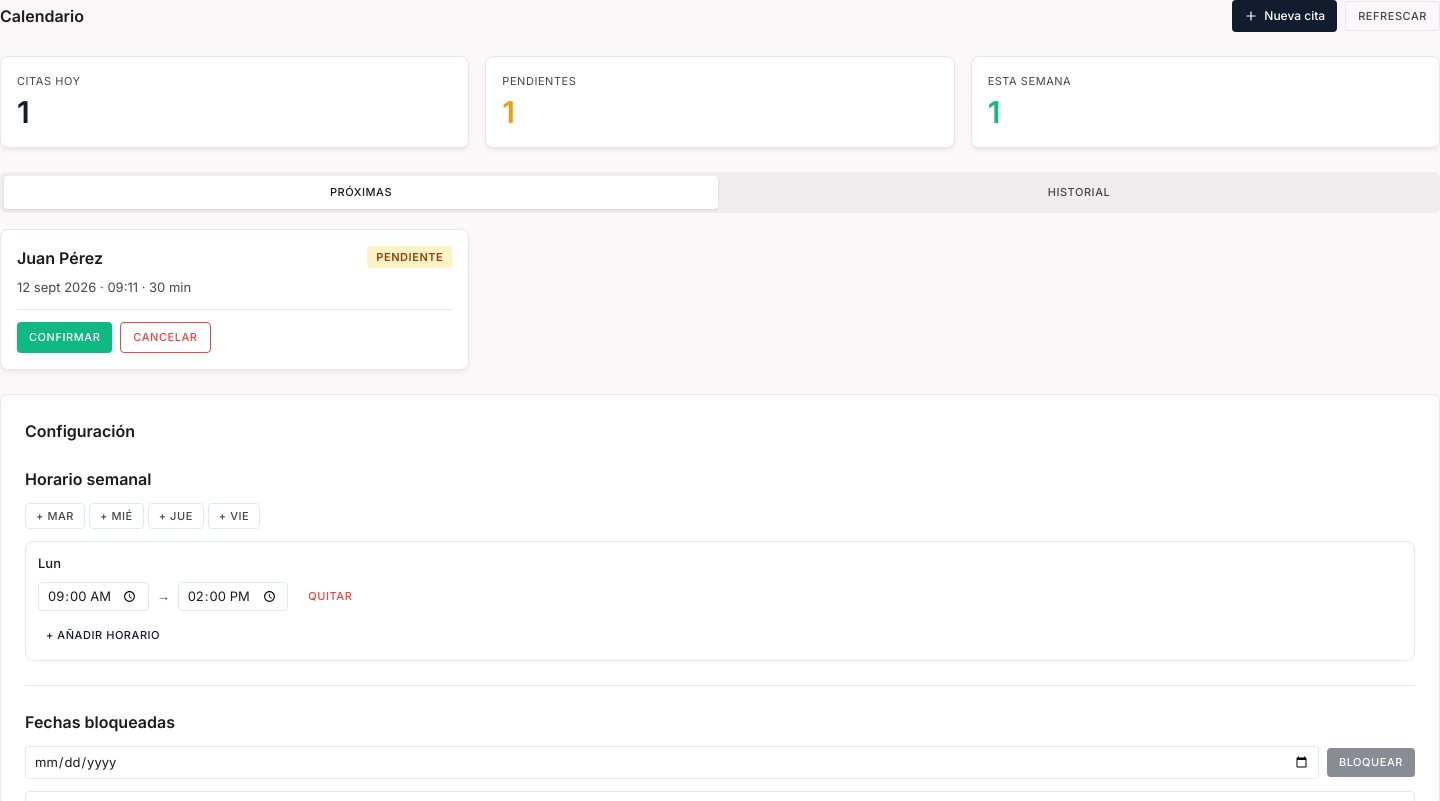
AdminCalendarioPage › shows error when save fails
Check: the heading "Horario semanal" is shown, box top-left (25, 468), bottom-right (152, 488)
Click the button "+ Añadir horario": coordinates (103, 635) top-left (38, 623), bottom-right (168, 648)
(page scrolled)
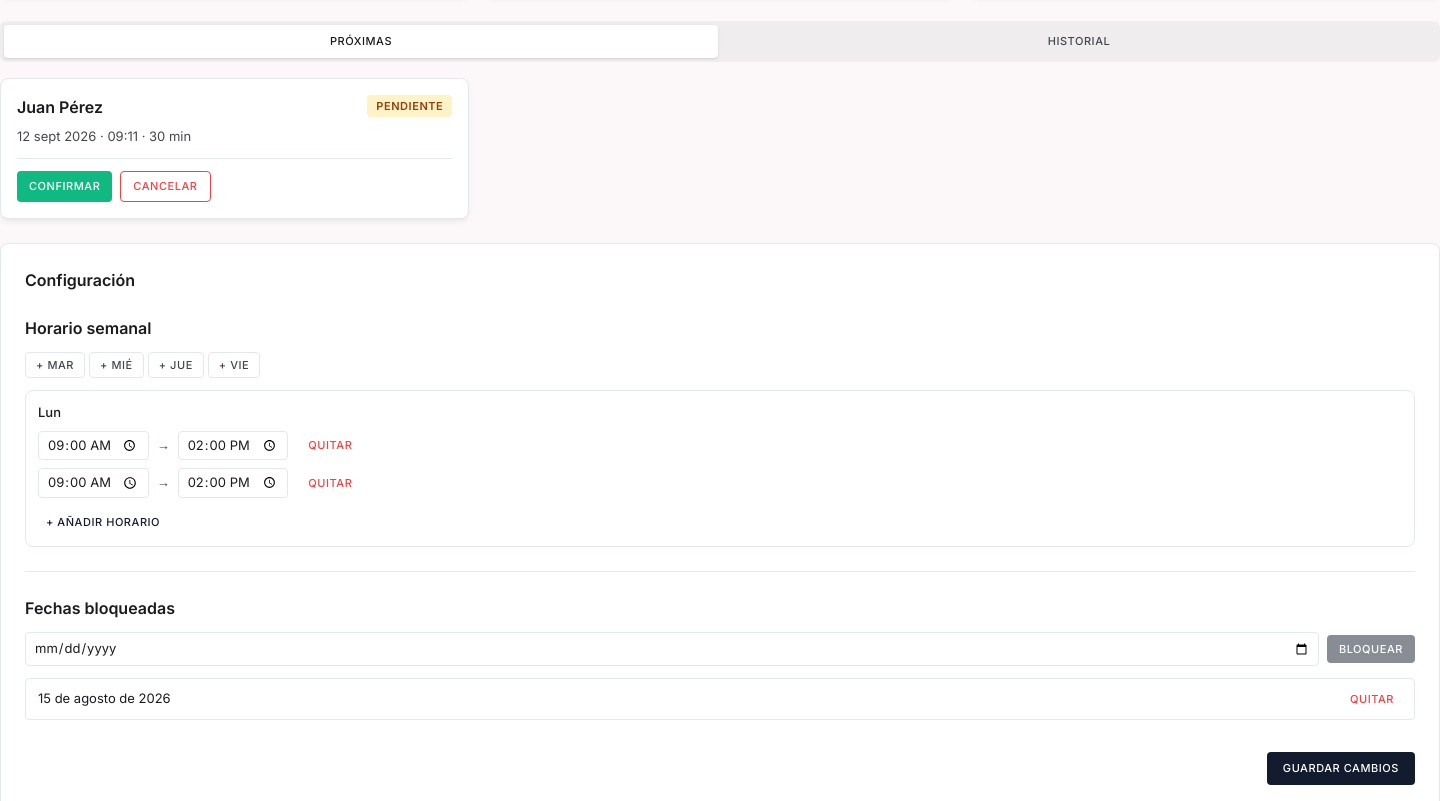
Click the button "Guardar cambios": coordinates (1341, 769) top-left (1267, 752), bottom-right (1415, 785)
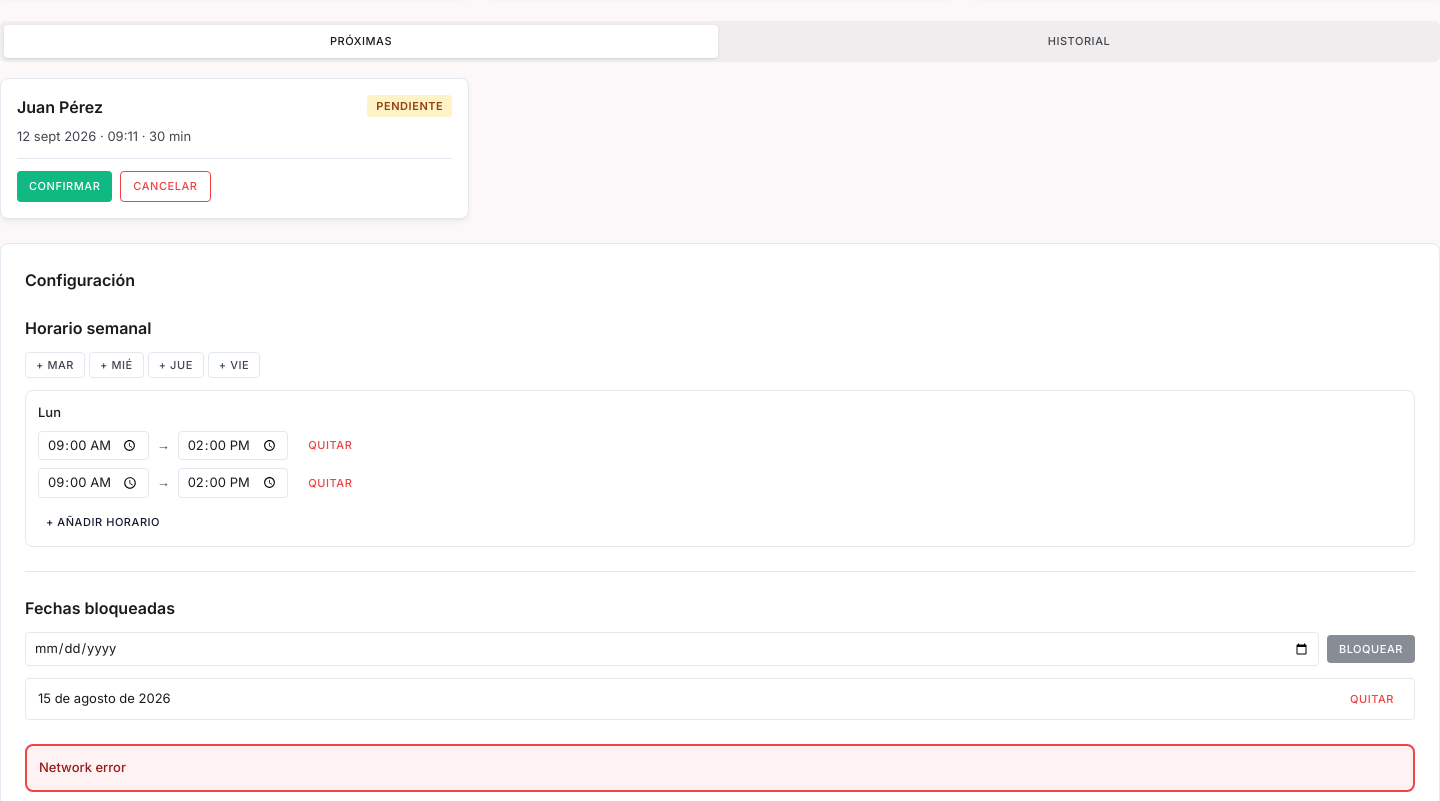
Check: the text "Network error" is shown, box top-left (39, 759), bottom-right (126, 775)
